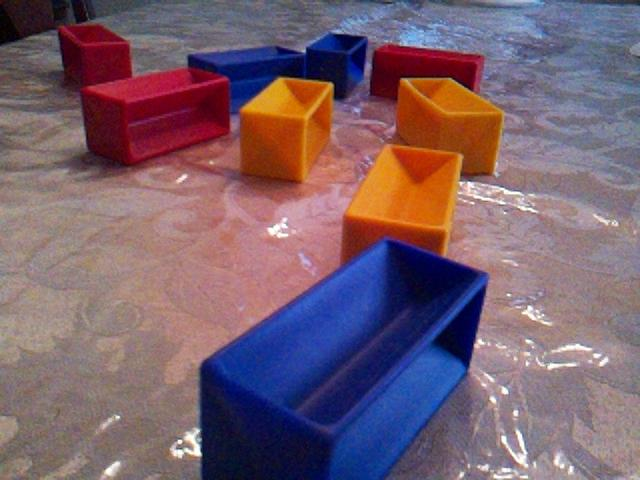blue: (200, 235, 491, 480), (188, 46, 307, 115), (307, 32, 369, 101)
red: (80, 68, 231, 166), (370, 44, 486, 102), (58, 24, 133, 89)
yellow: (341, 144, 465, 268), (397, 78, 505, 176), (239, 78, 335, 184)
